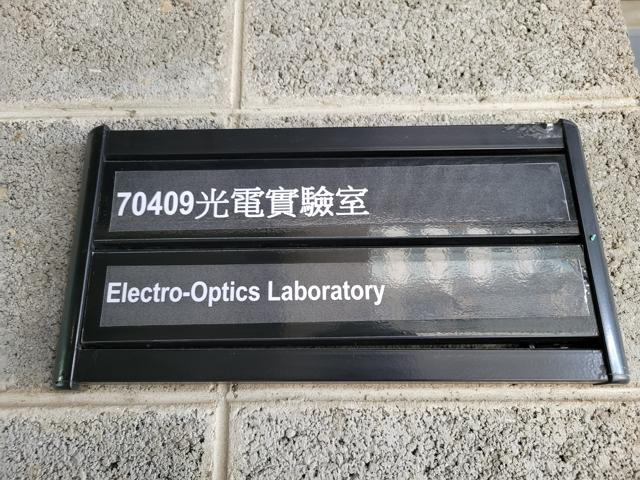doorplate: (48, 117, 633, 392)
